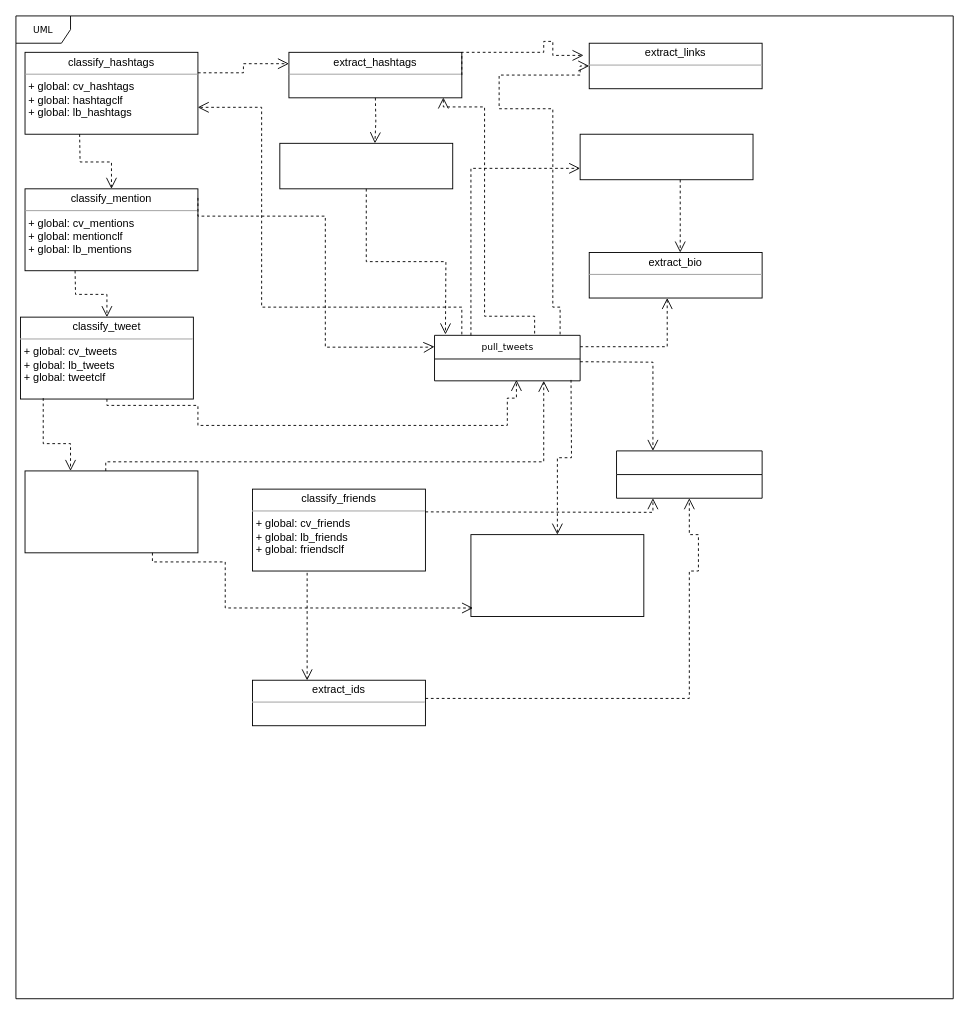
Image size: 969x1015. Some labels were removed from this diagram. Here are the shapes that lost their labels. From the top down, the centre of each, then its label:
the point at 366,165: extract_mentions
the point at 666,156: extract_tweet
the point at 689,474: pull_following
the point at 111,511: classify_bio + global: cv_bios + global: lb_bios + global: bioclf
the point at 557,575: classify_links + global: cv_links + global: lb_links + global: linksclf
